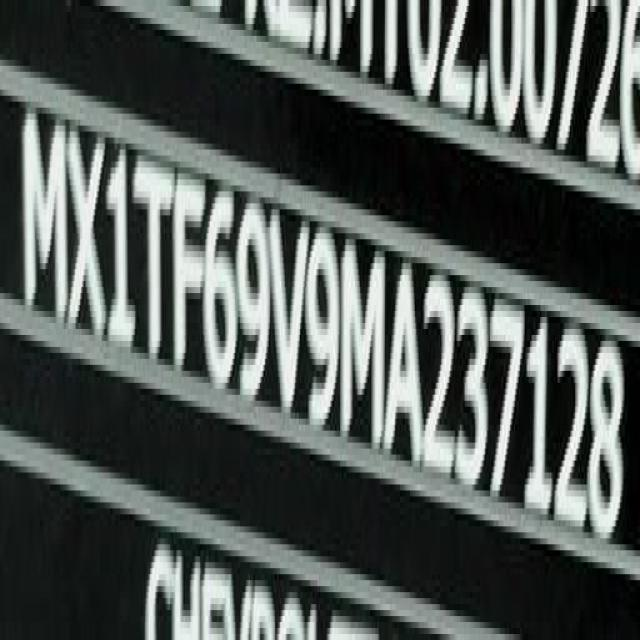1: (108, 140, 137, 359), (526, 311, 552, 524)
2: (423, 268, 459, 485), (553, 319, 588, 540)
3: (458, 279, 491, 499)
6: (205, 180, 239, 394)
7: (492, 294, 526, 512)
8: (591, 336, 628, 551)
9: (305, 225, 341, 438), (237, 194, 272, 407)
A: (386, 252, 426, 473)
F: (174, 170, 208, 386)
M: (338, 235, 388, 460), (20, 99, 69, 326)
T: (136, 145, 172, 373)
V: (272, 204, 310, 425)
X: (67, 120, 108, 348)
